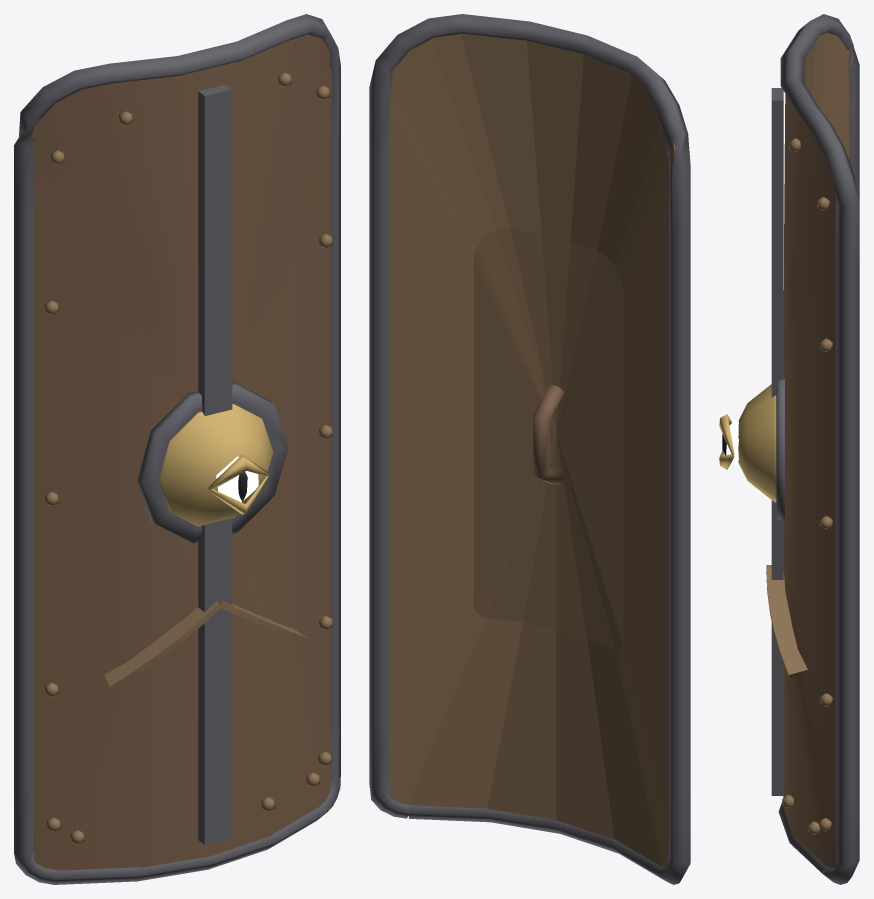
The model's file is shield-wall.glb.
3 views of the same model, side by side, from view 1: azimuth 30°, elevation 25°; view 2: azimuth 150°, elevation 25°; view 3: azimuth 270°, elevation 25° (orthographic). The views are drawn at different scales.
Visible parts, largest first — view 1: shield-wall; view 2: shield-wall; view 3: shield-wall.
Part boxes in pixels (box(x1,y1,x2,y2)): shield-wall: box(14, 14, 340, 884); shield-wall: box(369, 14, 690, 884); shield-wall: box(719, 14, 859, 884).
Size of the model in its own units: 0.859 by 2.06 by 0.3442.
